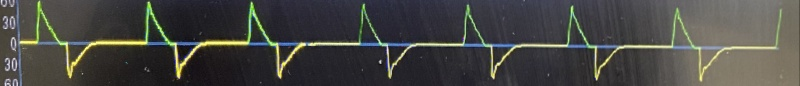normal_flow: (16, 0, 750, 86)
